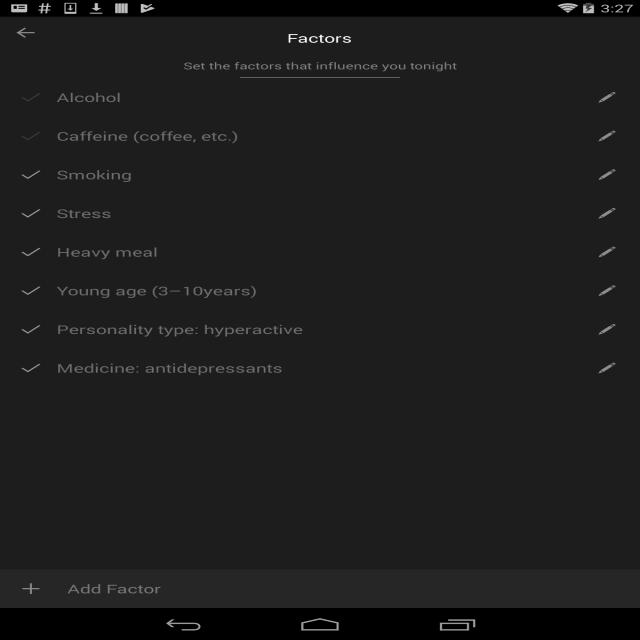CheckedTextView: (12, 281, 50, 298), (16, 358, 47, 376), (15, 317, 42, 337), (13, 244, 45, 260), (16, 205, 45, 222), (16, 91, 45, 105), (20, 164, 42, 182)
ImageButton: (10, 26, 45, 41)
TextView: (53, 356, 290, 376), (177, 58, 467, 73), (54, 128, 246, 147), (63, 580, 172, 599), (54, 165, 142, 185), (56, 246, 170, 258), (284, 31, 361, 47)
